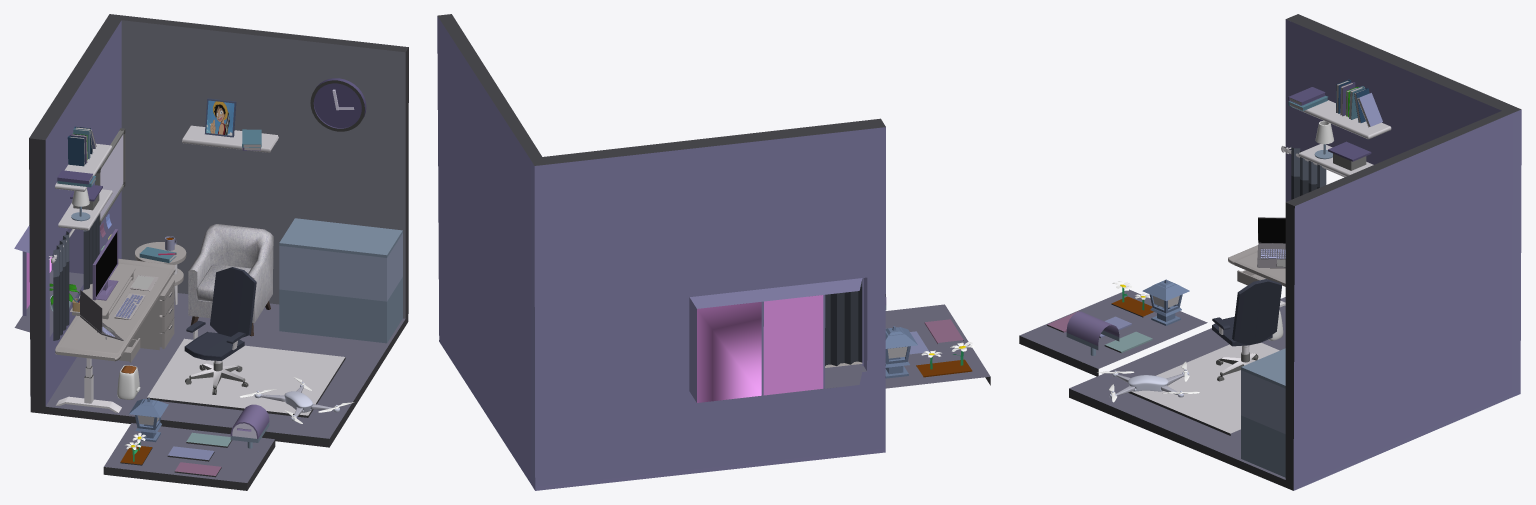
The model's file is myRoom.glb.
3 renders of one model, left to right at view 1: azimuth 30°, elevation 25°; view 2: azimuth 150°, elevation 25°; view 3: azimuth 270°, elevation 25°, orthographic. The views are drawn at different scales.
Visible parts, largest first — view 1: Room, Aquarium, room extended.004, room extended, AquariumGlass, SofaChair, tableTop, Cylinder.002, curtains, ClockBody, whiteBoard, rack1.001 (+20 smaller); view 2: Room, room extended, curtains, outdoorLamp, room extended.005, room extended.002; view 3: Room, room extended.004, room extended, Cylinder.002, Aquarium, AquariumGlass, mailbox, rack2, curtains, outdoorLamp, tableTop, Cube.003 (+5 smaller).
Part boxes in pixels (x1=…): Room: x1=14, y1=14, x2=408, y2=447; Aquarium: x1=279, y1=218, x2=402, y2=343; room extended.004: x1=147, y1=338, x2=345, y2=417; room extended: x1=103, y1=423, x2=275, y2=490; AquariumGlass: x1=279, y1=233, x2=402, y2=301; SofaChair: x1=188, y1=224, x2=273, y2=336; tableTop: x1=55, y1=258, x2=175, y2=361; Cylinder.002: x1=184, y1=267, x2=256, y2=360; curtains: x1=53, y1=214, x2=99, y2=340; ClockBody: x1=310, y1=78, x2=366, y2=131; whiteBoard: x1=95, y1=128, x2=125, y2=225; rack1.001: x1=182, y1=125, x2=278, y2=152; Room: x1=437, y1=14, x2=885, y2=490; room extended: x1=885, y1=304, x2=990, y2=388; curtains: x1=825, y1=279, x2=862, y2=365; outdoorLamp: x1=885, y1=326, x2=917, y2=378; room extended.005: x1=916, y1=359, x2=972, y2=377; room extended.002: x1=924, y1=319, x2=963, y2=343; Room: x1=1069, y1=14, x2=1521, y2=490; room extended.004: x1=1128, y1=342, x2=1279, y2=435; room extended: x1=1019, y1=289, x2=1207, y2=376; Cylinder.002: x1=1212, y1=279, x2=1281, y2=346; Aquarium: x1=1241, y1=348, x2=1285, y2=477; AquariumGlass: x1=1241, y1=370, x2=1285, y2=433; mailbox: x1=1066, y1=311, x2=1119, y2=349; rack2: x1=1292, y1=100, x2=1391, y2=139; curtains: x1=1291, y1=146, x2=1326, y2=199; outdoorLamp: x1=1142, y1=279, x2=1189, y2=325; tableTop: x1=1228, y1=245, x2=1285, y2=286; Cube.003: x1=1328, y1=141, x2=1371, y2=170.
Bounding box in the file's own units: 27.74 × 18.96 × 30.1.
Materials: 59 (4 with a texture image).
